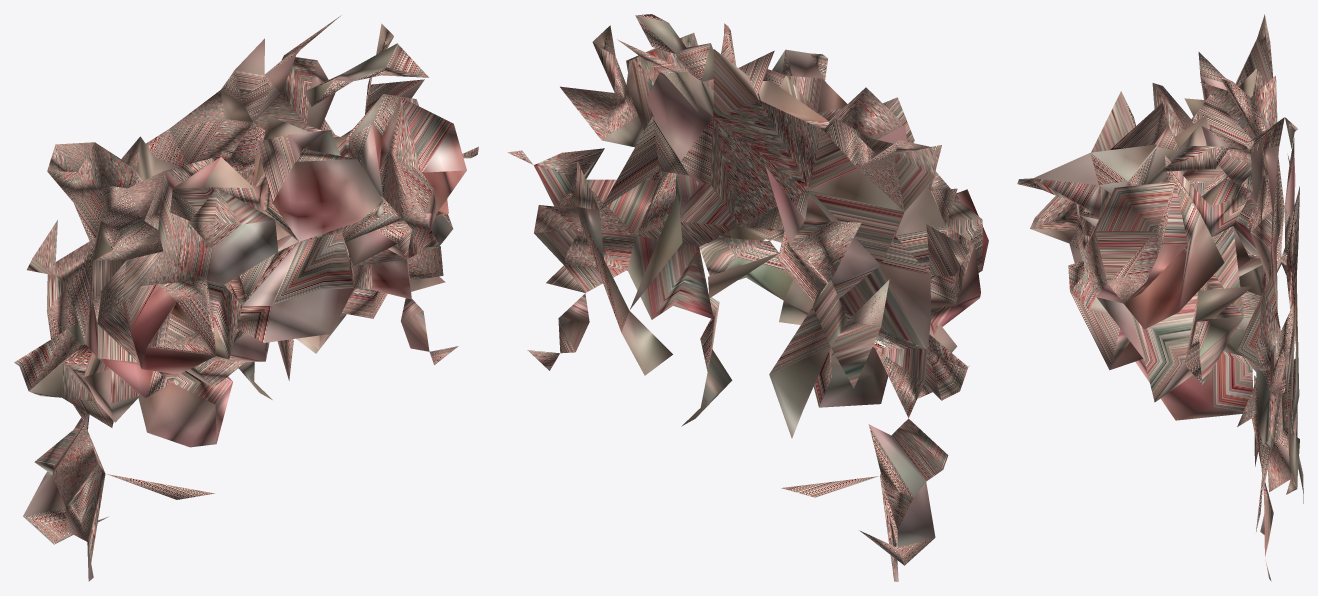
3 renders of one model, left to right at view 1: azimuth 30°, elevation 25°; view 2: azimuth 150°, elevation 25°; view 3: azimuth 270°, elevation 25°, orthographic. The views are drawn at different scales.
Visible parts, largest first — view 1: Rose-Bouquet-10-30; view 2: Rose-Bouquet-10-30; view 3: Rose-Bouquet-10-30.
Boxes of the visible parts, x1,y1,x2,y2 form: Rose-Bouquet-10-30: (14,15,478,581); Rose-Bouquet-10-30: (507,14,988,581); Rose-Bouquet-10-30: (1017,14,1303,581).
Size of the model in its own units: 0.2977 by 0.3063 by 0.1406.
Materials: 1 (1 with a texture image).
